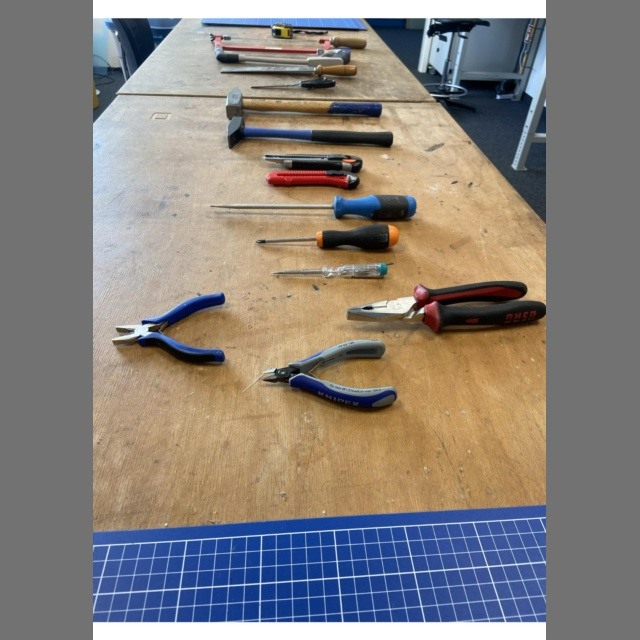scissor: (249, 76, 338, 91)
screwdriver: (208, 191, 421, 223), (253, 222, 401, 253), (269, 259, 390, 282)
